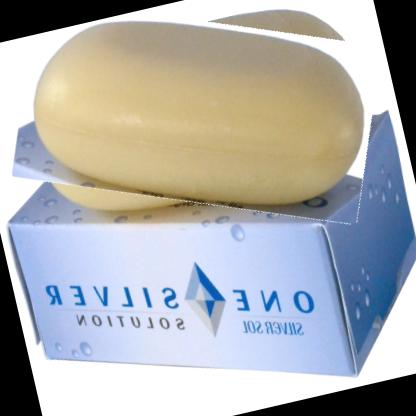soap: (0, 0, 403, 269)
